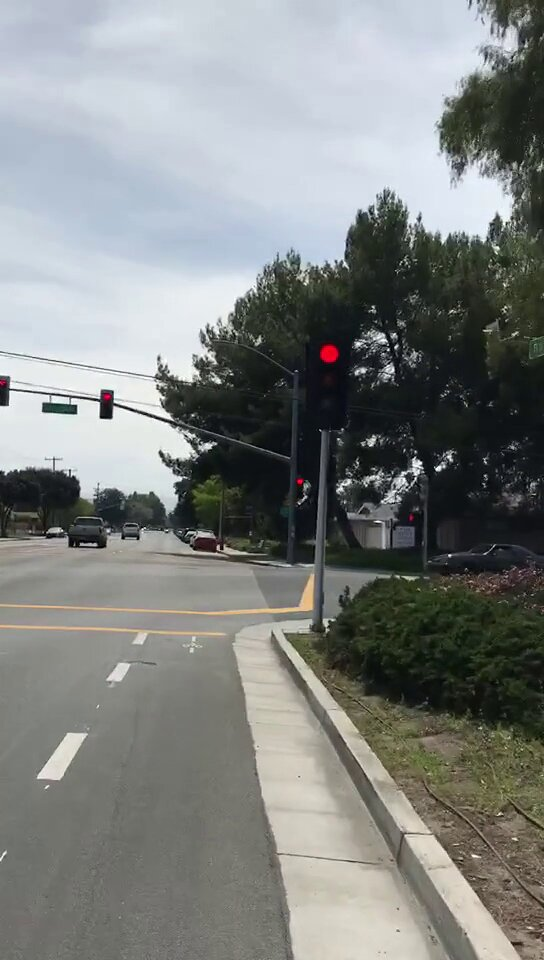red_light: (309, 342, 348, 427), (102, 391, 112, 416), (293, 473, 303, 497)
